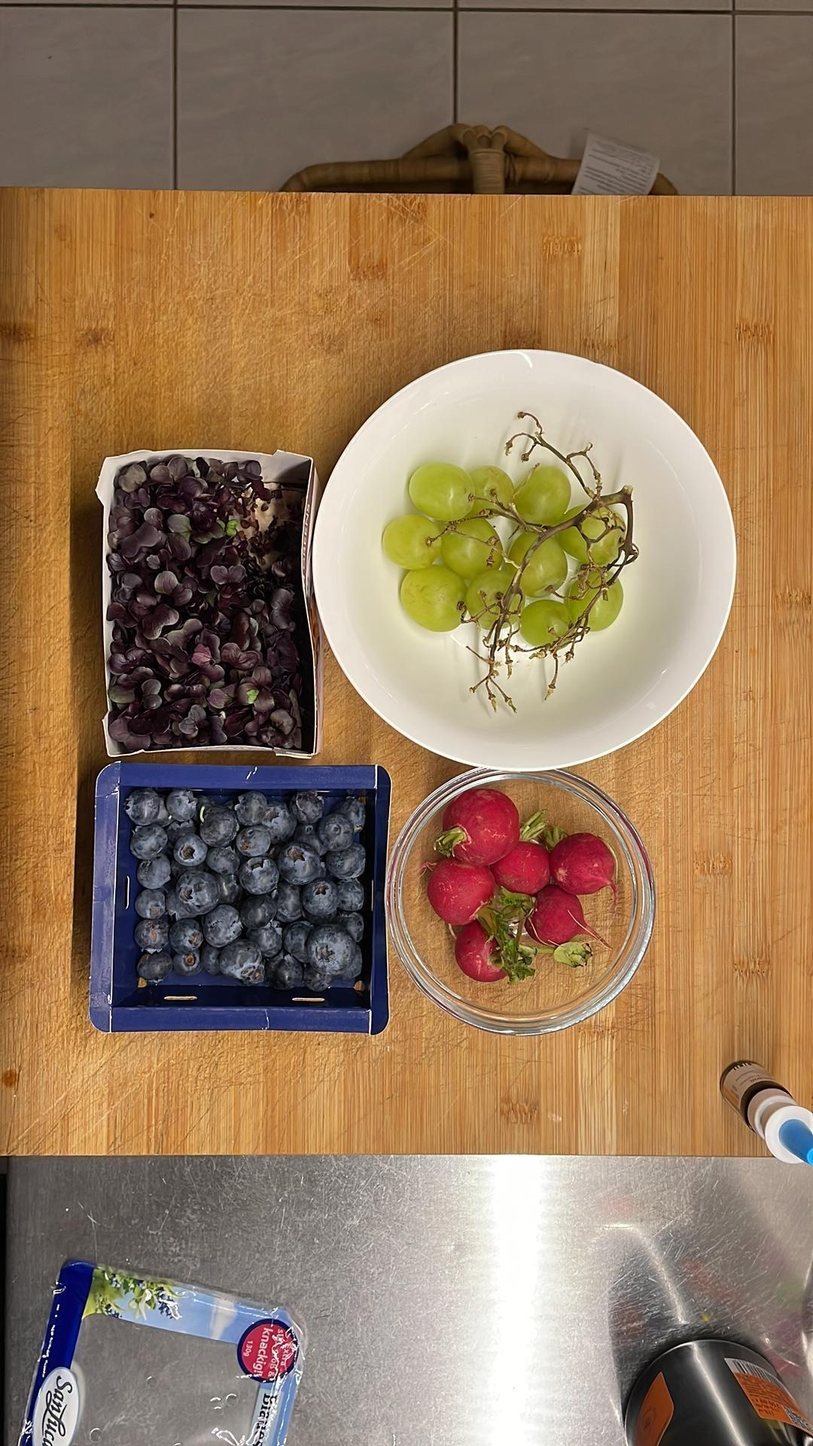blueberry: (308, 926, 352, 973), (279, 843, 325, 883), (175, 870, 216, 912), (204, 908, 248, 947), (120, 785, 158, 825), (196, 809, 237, 845), (304, 876, 339, 917), (239, 859, 279, 893), (236, 894, 273, 930), (132, 953, 178, 981), (222, 944, 258, 979), (273, 881, 302, 923), (268, 960, 308, 990), (332, 842, 366, 877), (231, 793, 267, 826), (321, 814, 355, 848), (292, 788, 326, 822), (234, 824, 269, 857), (136, 857, 171, 890), (132, 889, 173, 917), (263, 803, 294, 840), (132, 920, 169, 951), (284, 922, 312, 961), (206, 845, 238, 878), (172, 920, 203, 952), (174, 834, 208, 863), (132, 827, 166, 854), (215, 872, 245, 902), (168, 791, 198, 821), (335, 878, 361, 912), (246, 929, 282, 953), (339, 795, 363, 829), (297, 823, 325, 851), (203, 940, 224, 976), (301, 966, 330, 992), (339, 910, 365, 938), (172, 952, 205, 974)
grape: (399, 563, 475, 636), (404, 462, 478, 519), (564, 501, 632, 561), (510, 533, 571, 594), (566, 570, 624, 633), (445, 514, 501, 574), (378, 513, 439, 566), (466, 570, 522, 626), (517, 596, 568, 650), (516, 470, 564, 523), (470, 463, 512, 515)
radish: (438, 788, 515, 867), (530, 889, 607, 953), (551, 834, 631, 895), (428, 857, 499, 925), (456, 921, 513, 982), (495, 841, 550, 894)
